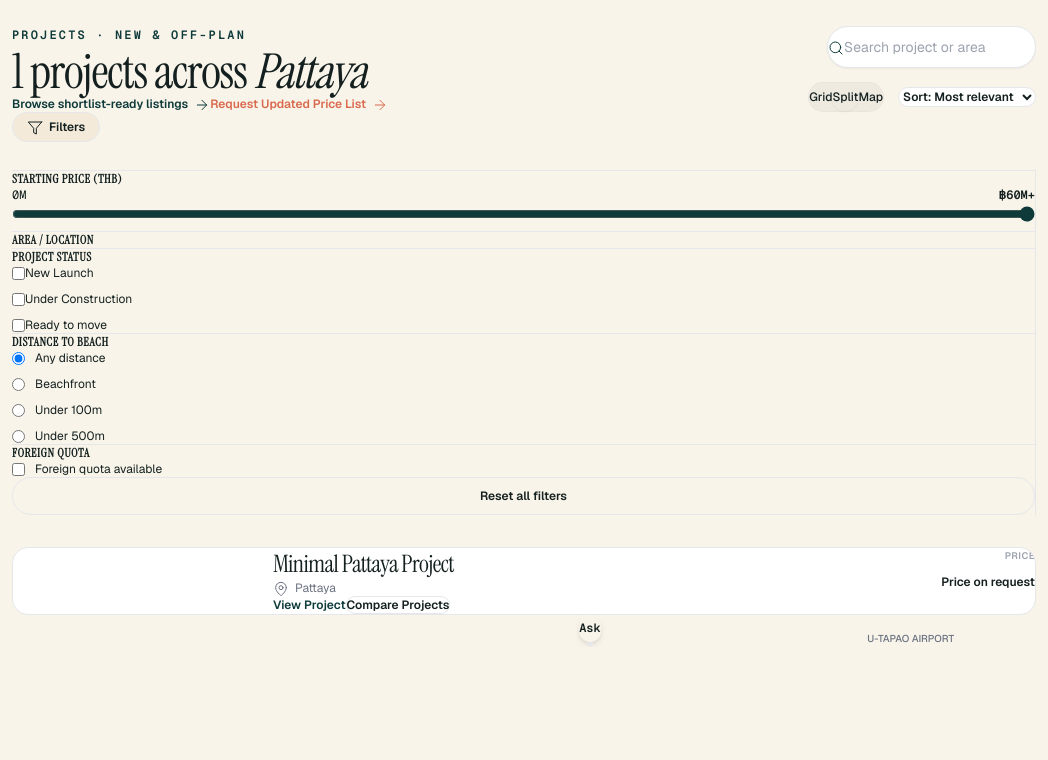
Scenario: Projects listing PR5 card surface › keeps missing optional project fields renderable without broken placeholder text
Click the button "Grid": click(821, 97) [809,83,832,111]
(page scrolled)
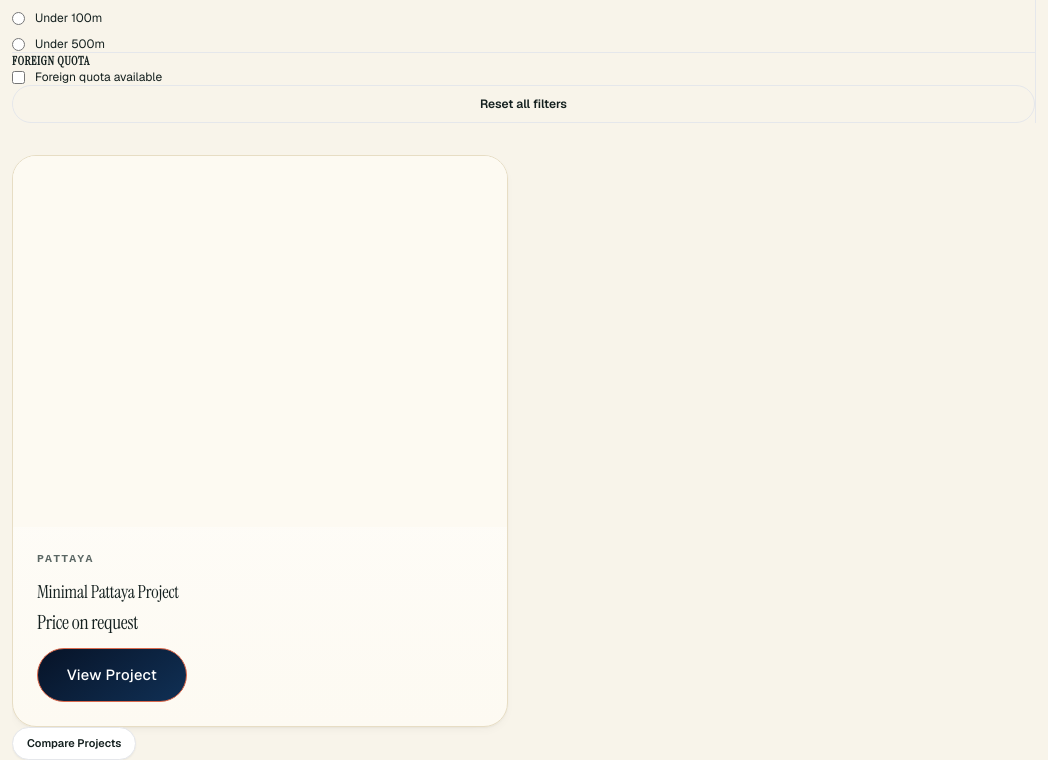
expect the heading "Minimal Pattaya Project" is shown: met, box [37,580,179,604]
expect the element named "Minimal Pattaya Project, Pattaya" is shown: met, box [12,155,508,727]
